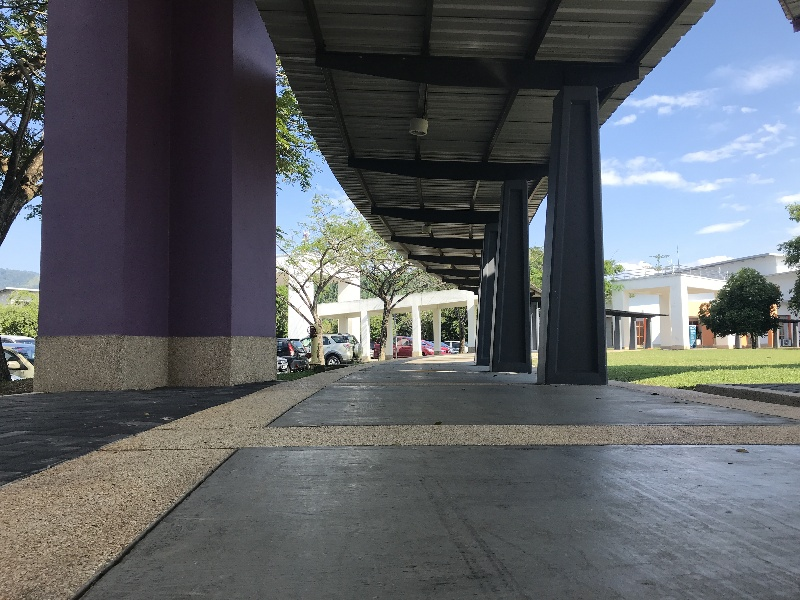Block D Pillar 6: (4, 12, 798, 541)
pillar: (25, 9, 287, 394), (532, 79, 622, 395), (487, 181, 529, 383)
